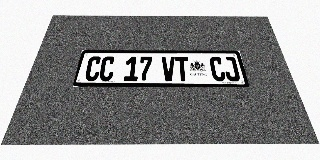1: (123, 57, 139, 81)
7: (138, 57, 152, 81)
C: (84, 56, 102, 81), (98, 56, 116, 81), (209, 57, 227, 81)
J: (222, 57, 241, 81)
T: (175, 57, 190, 81)
V: (162, 57, 176, 81)
